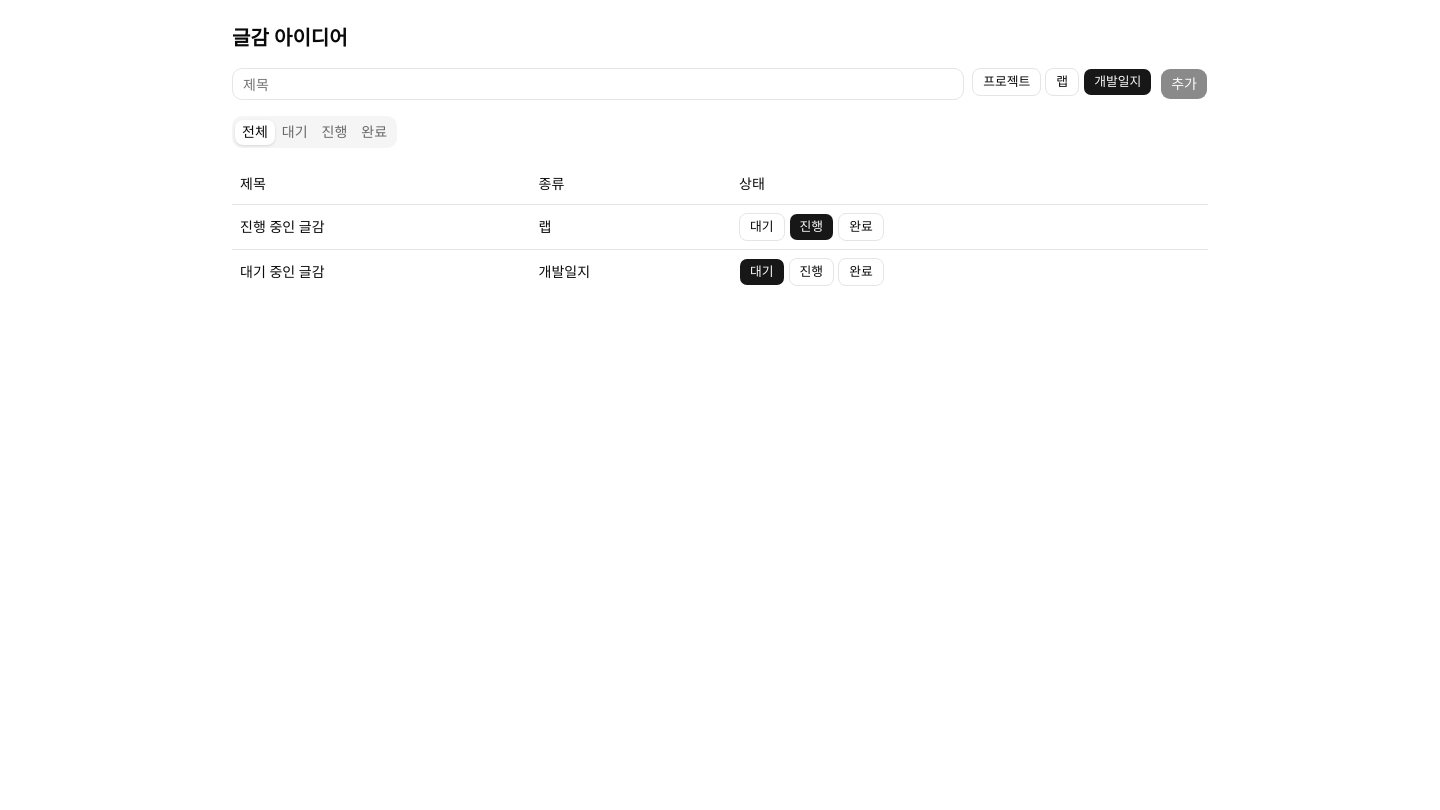
Scenario: IdeasPage 삭제 › 정상 › 상세 모달의 "삭제"를 누르면 상세가 닫히고 "글감 삭제" 확인 대화상자가 그 글감의 제목과 함께 열려야 한다
Click the text "진행 중인 글감". click: coordinates (282, 226)
box: left=232, top=204, right=531, bottom=249
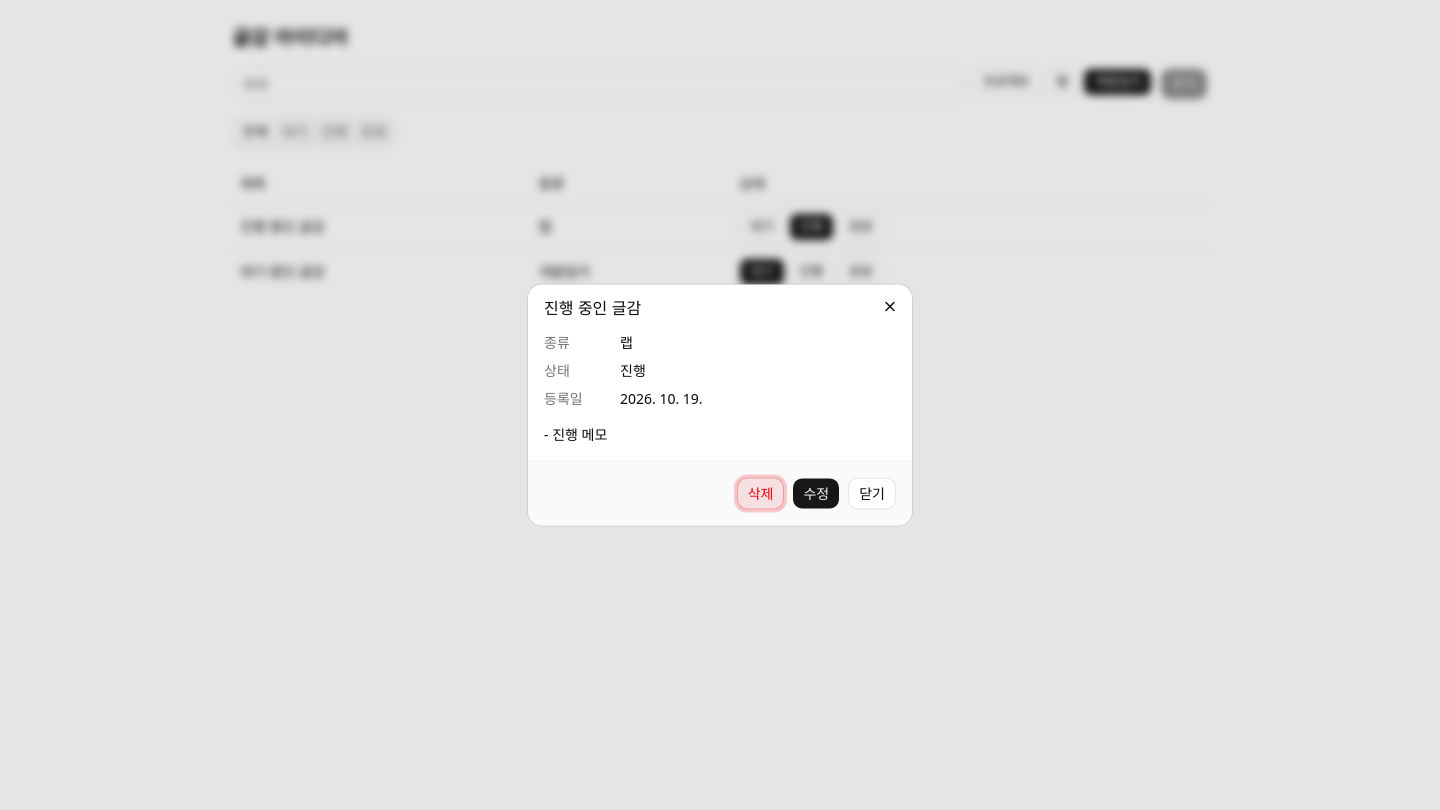
Click the button "삭제". click: coordinates (761, 494)
box: left=737, top=478, right=784, bottom=510
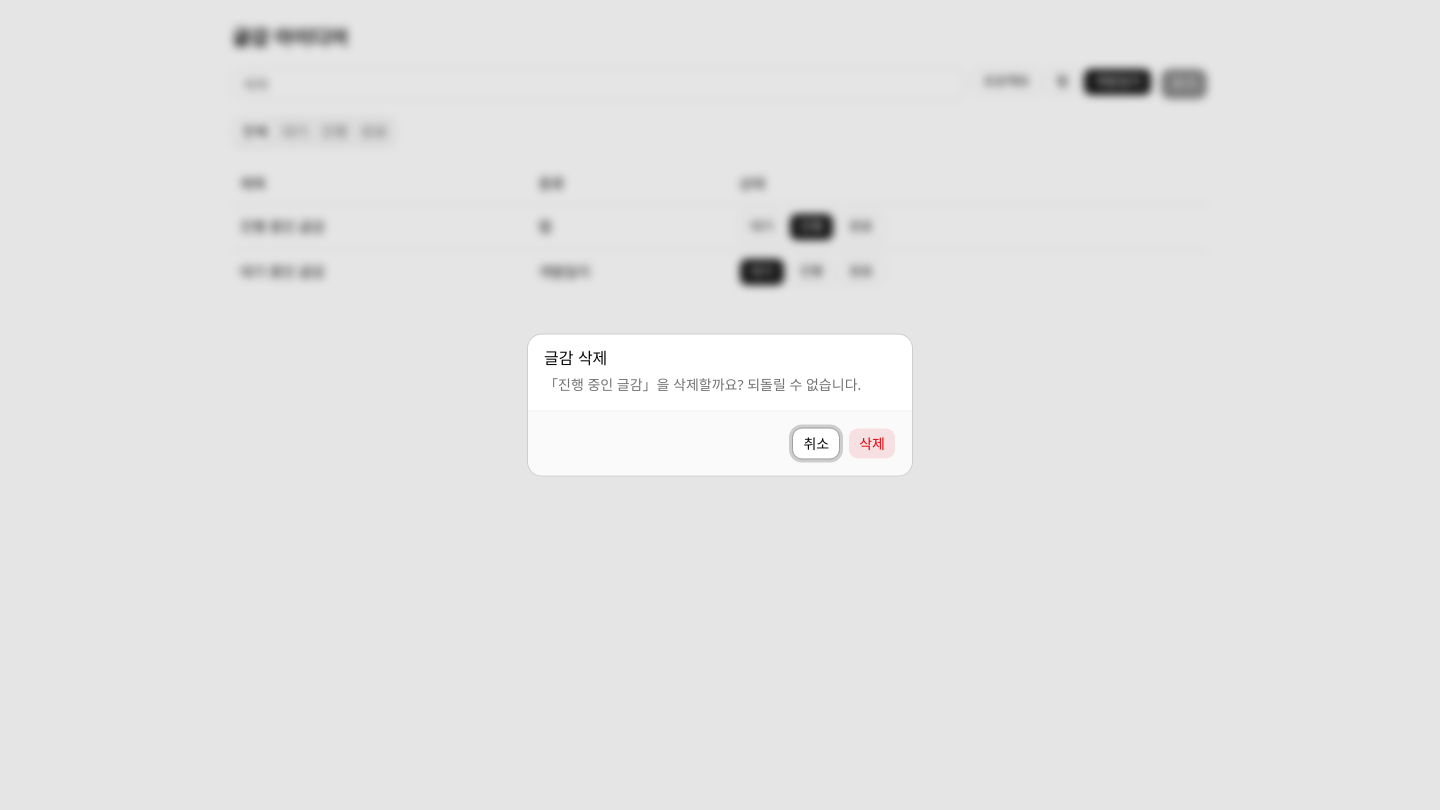
Expected: the text "「진행 중인 글감」을 삭제할까요? 되돌릴 수 없습니다." is shown, left=544, top=374, right=896, bottom=394
Expected: the number of dialogs is 1, left=528, top=334, right=912, bottom=476
